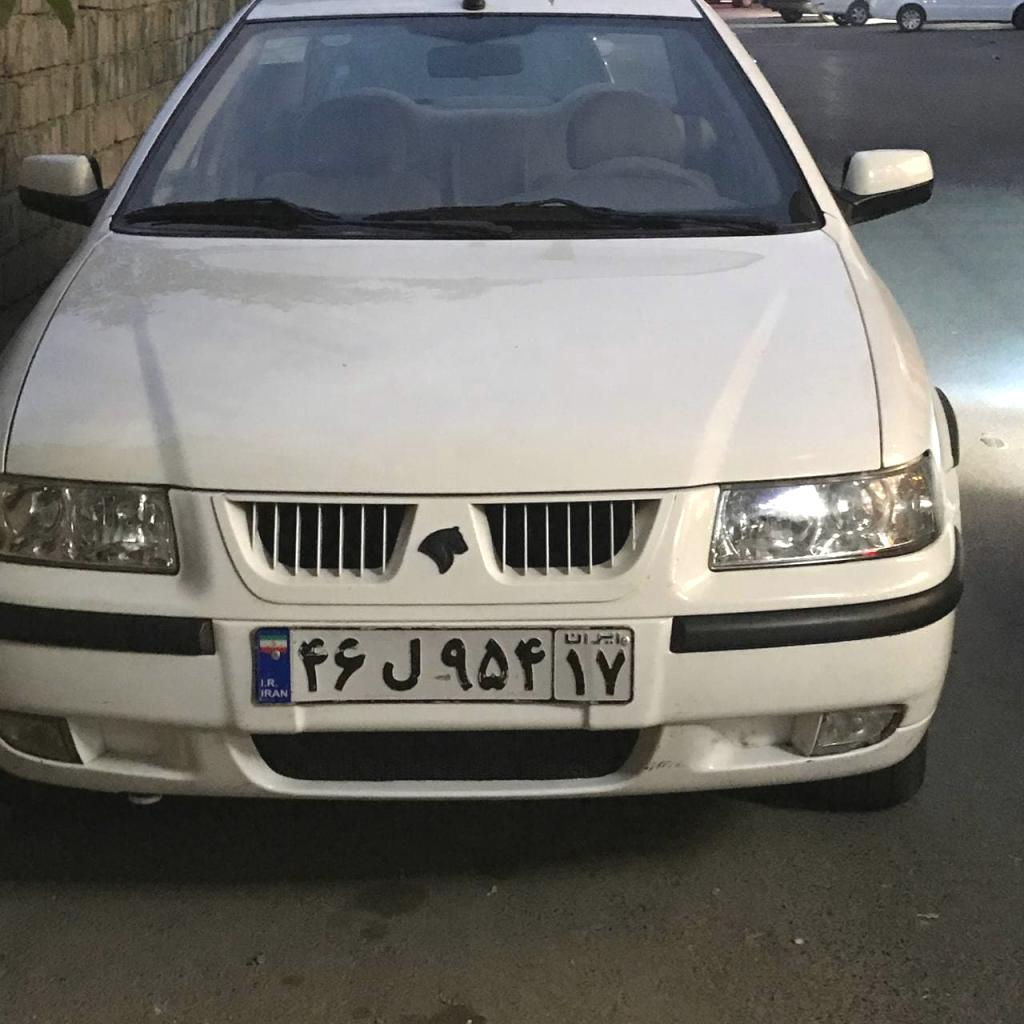Plates: (254, 627, 633, 705)
